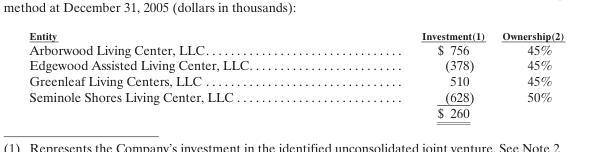table: (28, 28, 563, 120)
table column: (28, 28, 336, 120), (336, 28, 492, 120), (492, 28, 563, 120)
table column header: (28, 28, 563, 41)
table row: (28, 56, 563, 72), (28, 72, 563, 88), (28, 88, 563, 104), (28, 104, 563, 120), (28, 41, 563, 56), (28, 28, 563, 41)
